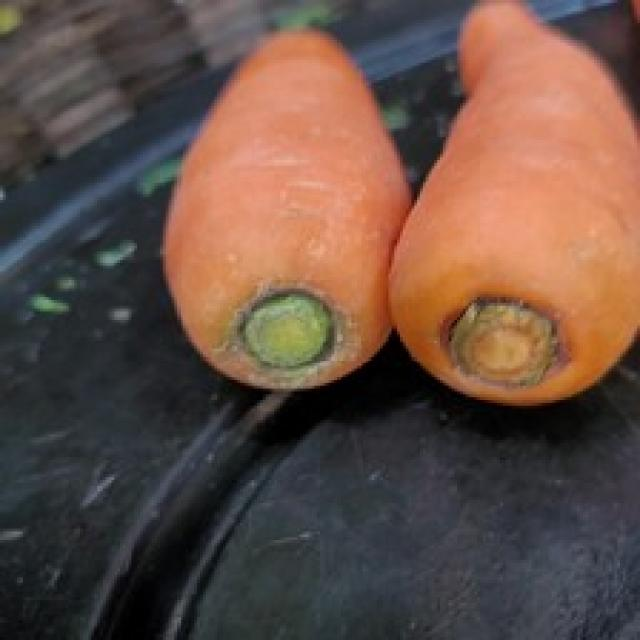carrot: (386, 3, 634, 405), (163, 29, 410, 393)
